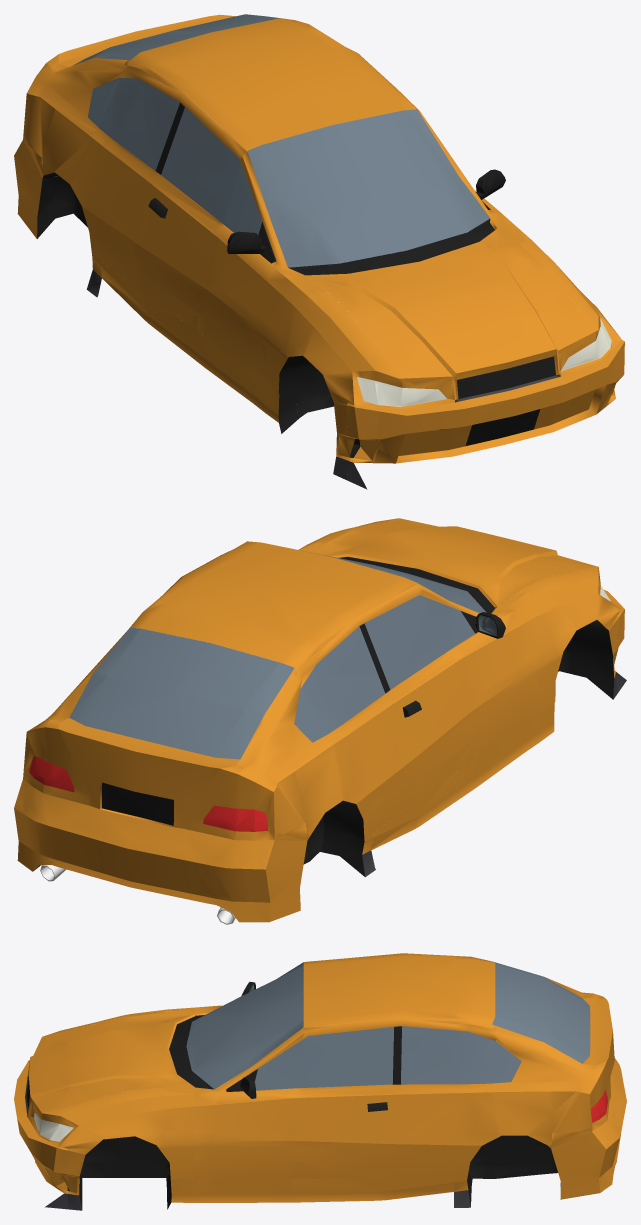
File: protoCompact.glb
The picture shows the model from 3 angles, top to bottom: view 1: azimuth 30°, elevation 25°; view 2: azimuth 150°, elevation 25°; view 3: azimuth 270°, elevation 25°; orthographic projection. The views are drawn at different scales.
Parts seen in each view (by area): view 1: Body, Hood, Roof, Bumper_Front, Skirts, Bumper_Rear; view 2: Body, Bumper_Rear, Roof, Hood, Skirts; view 3: Body, Roof, Hood, Skirts, Bumper_Rear, Bumper_Front.
Part boxes in pixels (<box>): Body: <box>23,14,622,479</box>; Hood: <box>305,228,595,399</box>; Roof: <box>124,18,417,151</box>; Bumper_Front: <box>346,340,624,489</box>; Skirts: <box>100,262,299,433</box>; Bumper_Rear: <box>14,139,79,238</box>; Body: <box>23,518,622,877</box>; Bumper_Rear: <box>14,778,307,924</box>; Roof: <box>128,541,417,675</box>; Hood: <box>314,519,594,607</box>; Skirts: <box>371,702,554,849</box>; Body: <box>34,961,614,1210</box>; Roof: <box>303,953,495,1029</box>; Hood: <box>26,1013,195,1118</box>; Skirts: <box>167,1178,453,1209</box>; Bumper_Rear: <box>552,1058,626,1199</box>; Bumper_Front: <box>14,1060,67,1209</box>.
Bounding box in the file's own units: 1.64 × 1.25 × 3.95.
